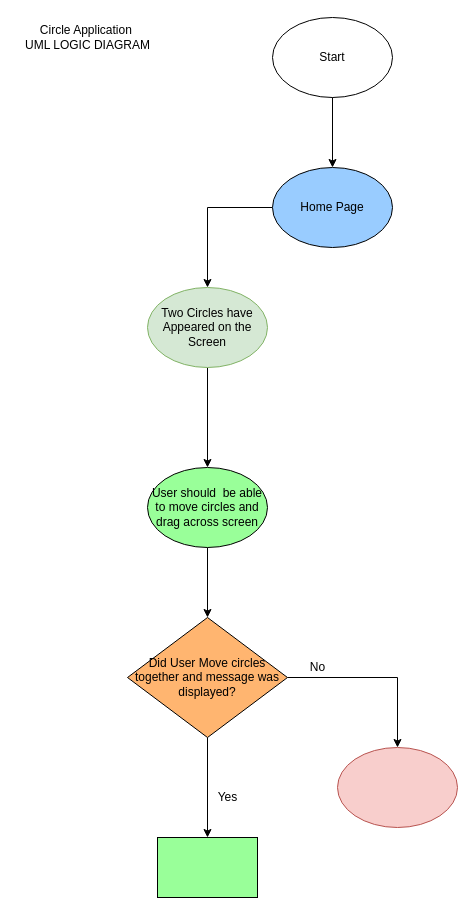
The diagram is 475 pixels wide and 915 high, and some of its shapes have lost their labels. Here are the shapes that lost their labels. From the top down, the box of each, then its label:
(336, 746, 458, 828): Error
(156, 836, 258, 898): Message Alert is sent to the user on the screen
